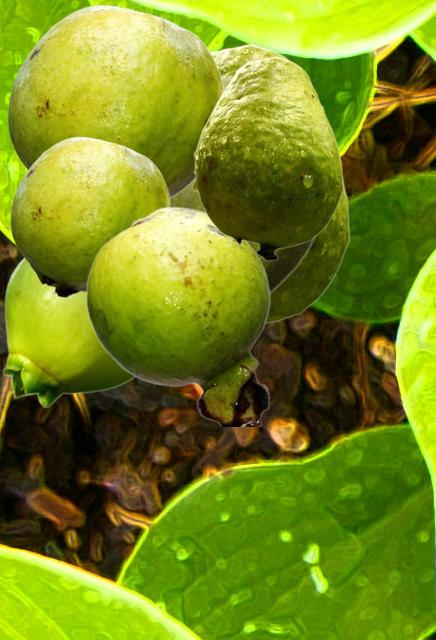guava: (7, 4, 223, 200), (85, 206, 270, 425), (212, 43, 349, 323), (170, 76, 320, 295), (192, 56, 342, 260), (10, 136, 169, 297), (2, 257, 134, 407)
